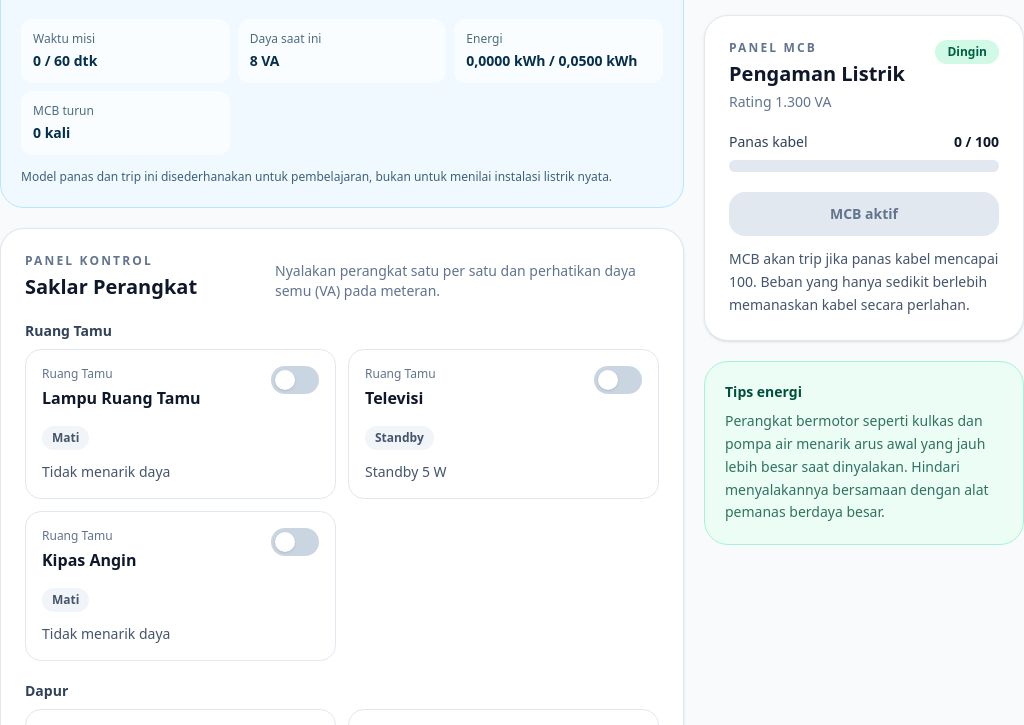
Scenario: SimulationDashboard › mengembalikan perangkat ke kondisi awal lewat tombol mulai ulang
The width and height of the screenshot is (1024, 725).
(page scrolled)
Click the switch named "Nyalakan Lampu Ruang Tamu" at [295, 380], box 271,366 -> 319,394
(page scrolled)
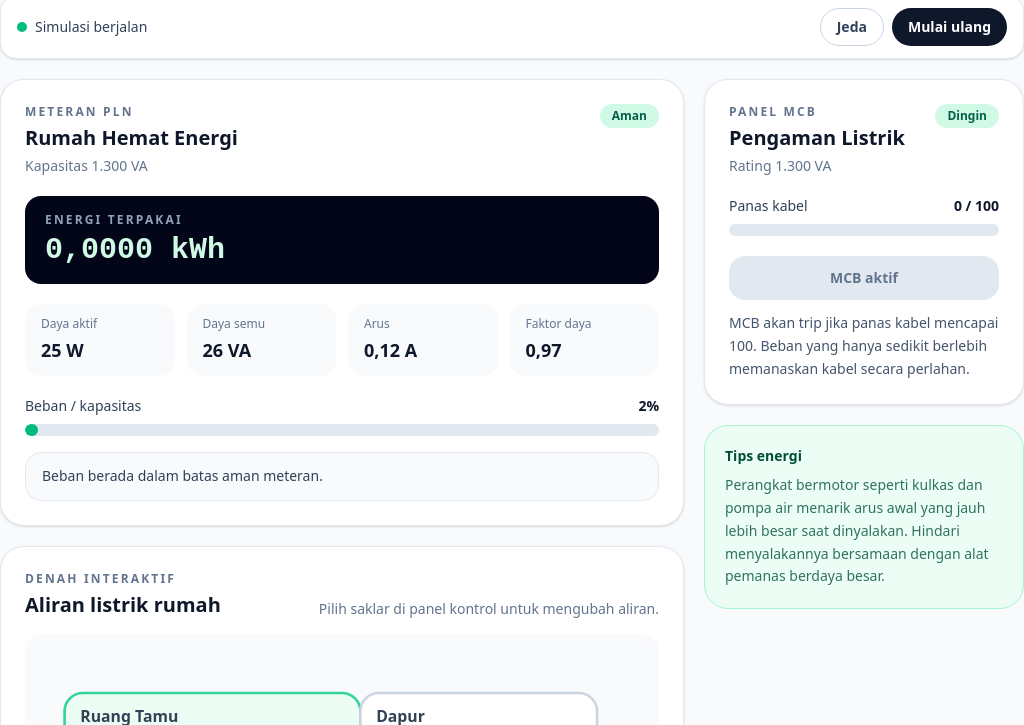
Click the button "Mulai ulang" at [950, 27], box 892,8 -> 1007,46
(page scrolled)
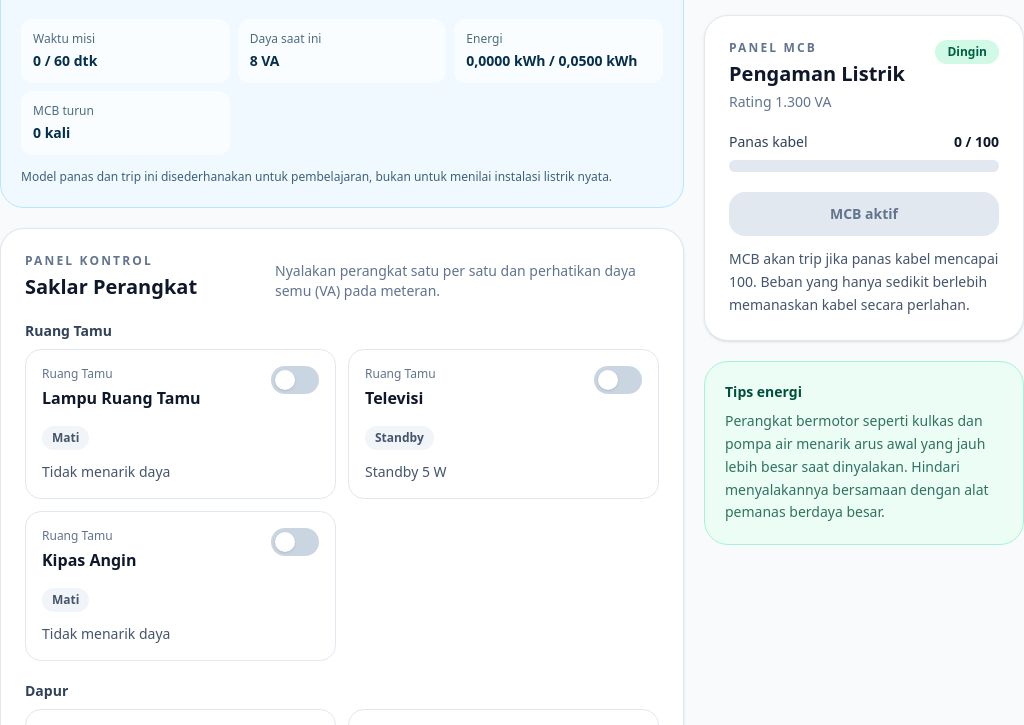
Now the switch named "Nyalakan Lampu Ruang Tamu" is shown, box 271,366 -> 319,394
